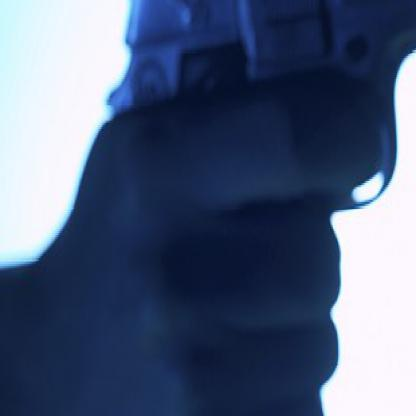gun: (98, 0, 415, 310)
